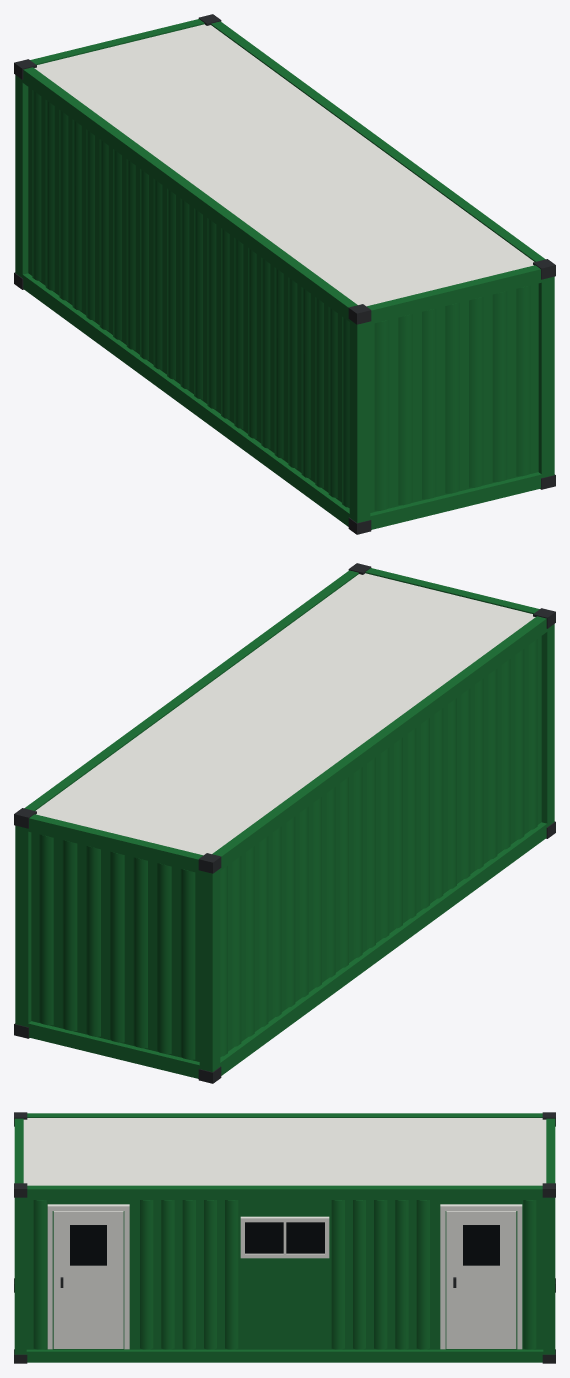
File: plant.cabin.welfare.glb
3 renders of one model, top to bottom at view 1: azimuth 30°, elevation 25°; view 2: azimuth 150°, elevation 25°; view 3: azimuth 270°, elevation 25°, orthographic. The views are drawn at different scales.
Parts seen in each view (by area): view 1: main__plastic_green, main__paint_white, frame__plastic_green, frame__steel_dark; view 2: main__plastic_green, main__paint_white, frame__plastic_green, frame__steel_dark; view 3: main__paint_white, main__plastic_green, frame__plastic_green, main__glass_dark, frame__steel_dark.
Part boxes in pixels (x1=…): main__plastic_green: x1=28, y1=87, x2=538, y2=512; main__paint_white: x1=34, y1=24, x2=533, y2=306; frame__plastic_green: x1=15, y1=19, x2=554, y2=529; frame__steel_dark: x1=14, y1=14, x2=555, y2=534; main__plastic_green: x1=31, y1=636, x2=541, y2=1061; main__paint_white: x1=36, y1=573, x2=535, y2=855; frame__plastic_green: x1=15, y1=568, x2=554, y2=1078; frame__steel_dark: x1=14, y1=563, x2=555, y2=1083; main__paint_white: x1=23, y1=1118, x2=546, y2=1349; main__plastic_green: x1=26, y1=1200, x2=543, y2=1349; frame__plastic_green: x1=14, y1=1113, x2=555, y2=1362; main__glass_dark: x1=70, y1=1222, x2=499, y2=1265; frame__steel_dark: x1=14, y1=1112, x2=555, y2=1363.
Size of the model in its own units: 2.48 by 2.61 by 7.34.
